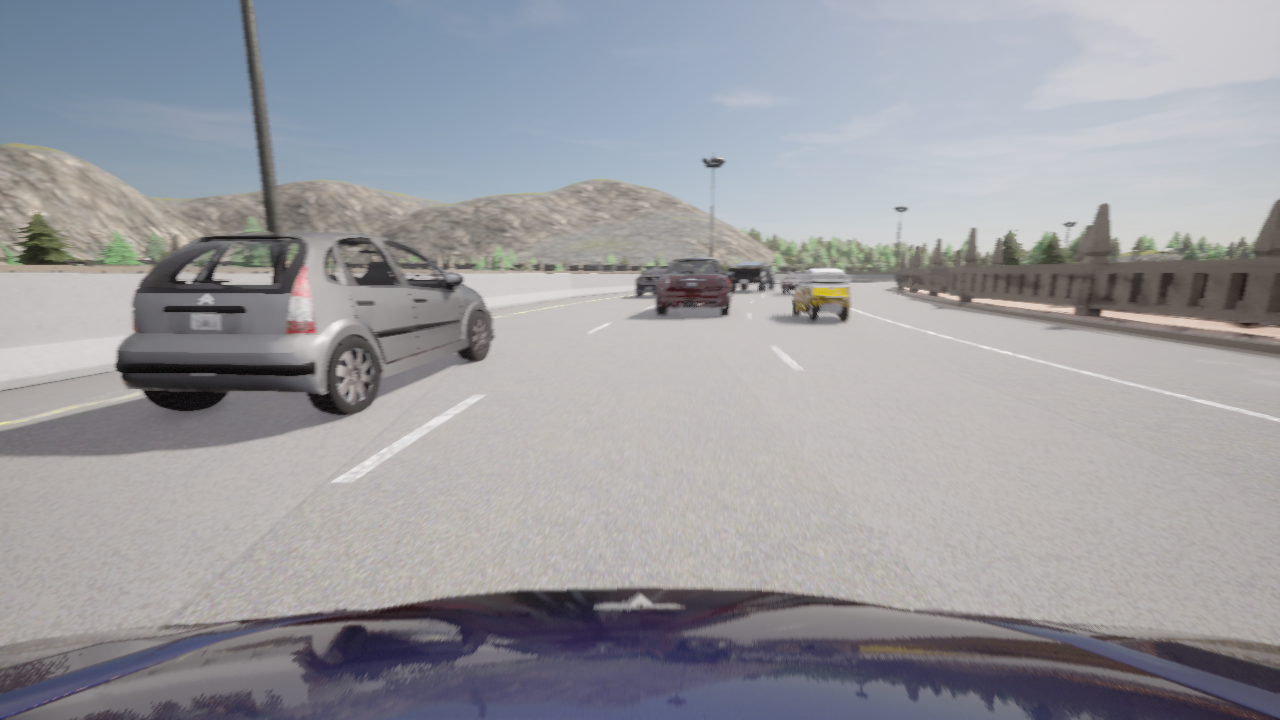cyclist: (0, 588, 1279, 719), (114, 232, 493, 415), (656, 257, 732, 315), (793, 268, 850, 321), (728, 261, 775, 292), (636, 268, 667, 296), (781, 272, 805, 294)
